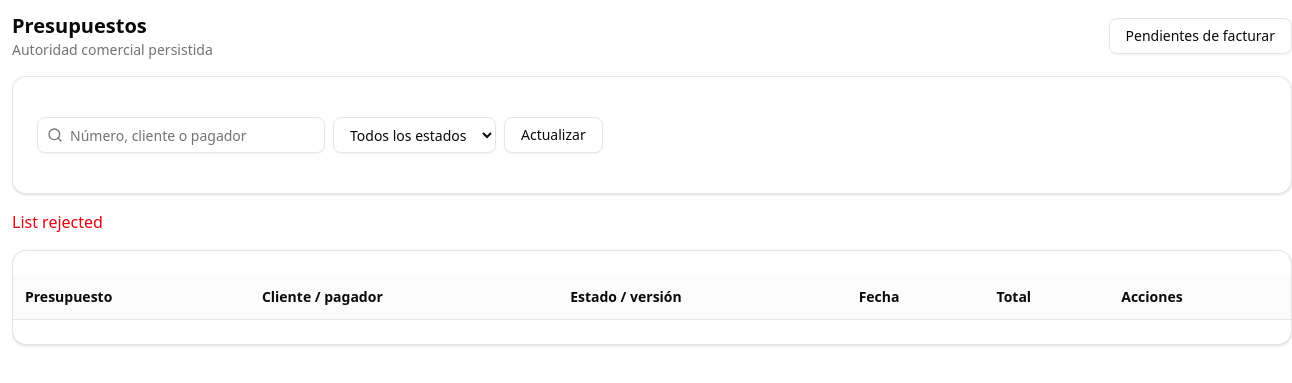
Sales actual rendered page and isolated form › shows list rejection with retry and does not expose mutations to disallowed roles
Expected: the text "List rejected" is shown, [12, 211, 103, 233]
Click the button "Actualizar".
click(553, 135)  # box [504, 117, 603, 153]
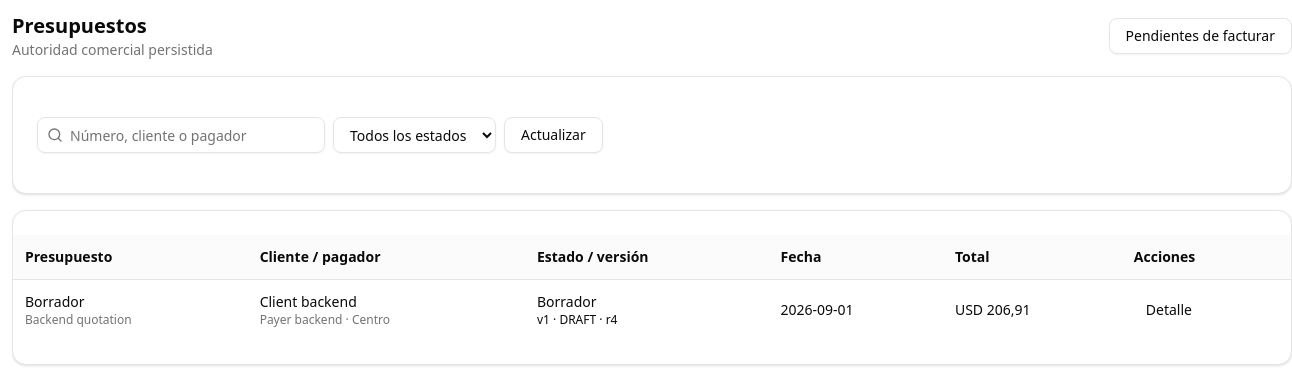
Now the text "Backend quotation" is shown, box [25, 311, 132, 328]
